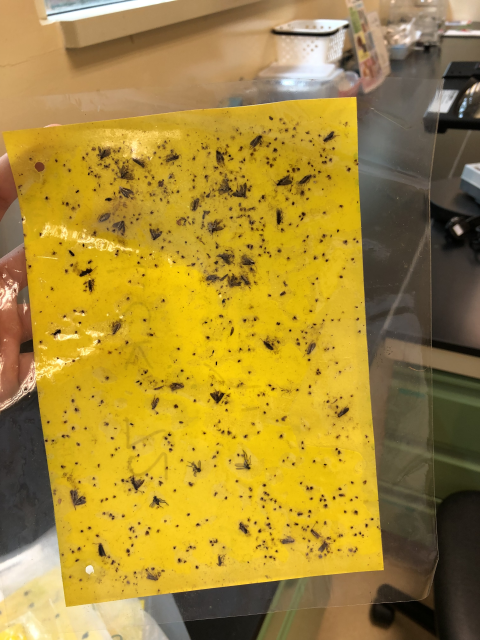DBM: (109, 216, 131, 237), (68, 489, 87, 512), (230, 181, 249, 201), (246, 132, 265, 151), (271, 173, 295, 187), (106, 321, 124, 338), (209, 219, 225, 236), (187, 195, 201, 214), (277, 533, 298, 545), (92, 540, 106, 558), (237, 519, 251, 537), (148, 227, 163, 242), (117, 185, 134, 198), (304, 342, 317, 358), (298, 173, 312, 186), (94, 212, 112, 222)
